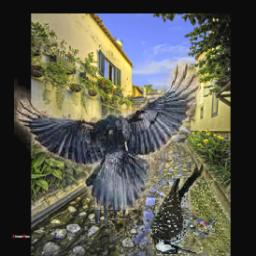Crow: (15, 62, 201, 210)
Woodpecker: (151, 164, 216, 254)
